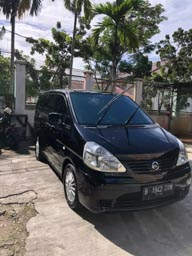plat: (140, 181, 172, 199)
